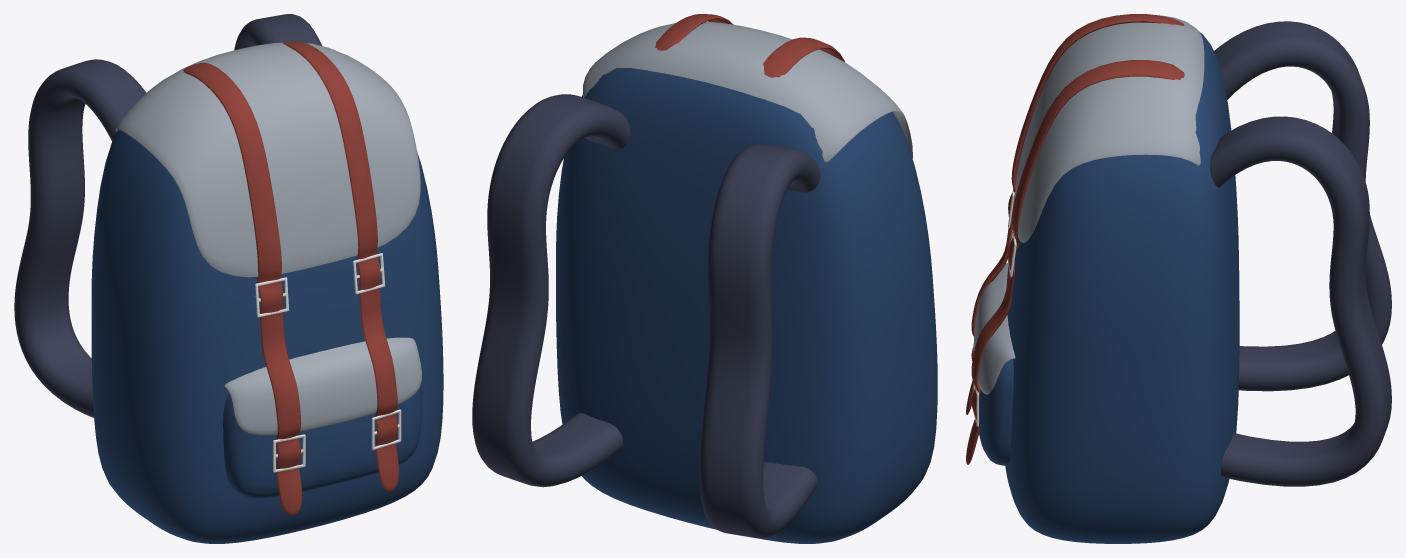
File: Backpack.glb
3 views of the same model, side by side, from view 1: azimuth 30°, elevation 25°; view 2: azimuth 150°, elevation 25°; view 3: azimuth 270°, elevation 25° (orthographic). The views are drawn at different scales.
Visible parts, largest first — view 1: body, body cover, strap, front strap, front pocket cover, front pocket, buckle; view 2: body, strap, body cover, front strap; view 3: body, strap, body cover, front strap, front pocket, front pocket cover.
Boxes of the visible parts, left/top/right/bottom form: body: left=91, top=129, right=443, bottom=543; body cover: left=115, top=42, right=420, bottom=277; strap: left=14, top=14, right=322, bottom=417; front strap: left=183, top=41, right=398, bottom=515; front pocket cover: left=224, top=337, right=421, bottom=435; front pocket: left=223, top=383, right=421, bottom=498; buckle: left=255, top=253, right=401, bottom=472; body: left=556, top=67, right=937, bottom=543; strap: left=472, top=94, right=820, bottom=538; body cover: left=583, top=22, right=912, bottom=161; front strap: left=655, top=14, right=844, bottom=77; body: left=1005, top=31, right=1239, bottom=543; strap: left=1210, top=21, right=1391, bottom=486; body cover: left=1015, top=15, right=1204, bottom=242; front strap: left=966, top=14, right=1184, bottom=464; front pocket: left=979, top=359, right=1013, bottom=465; front pocket cover: left=973, top=263, right=1015, bottom=394.
Bounding box in the file's own units: 1.4 × 1.95 × 1.62.
